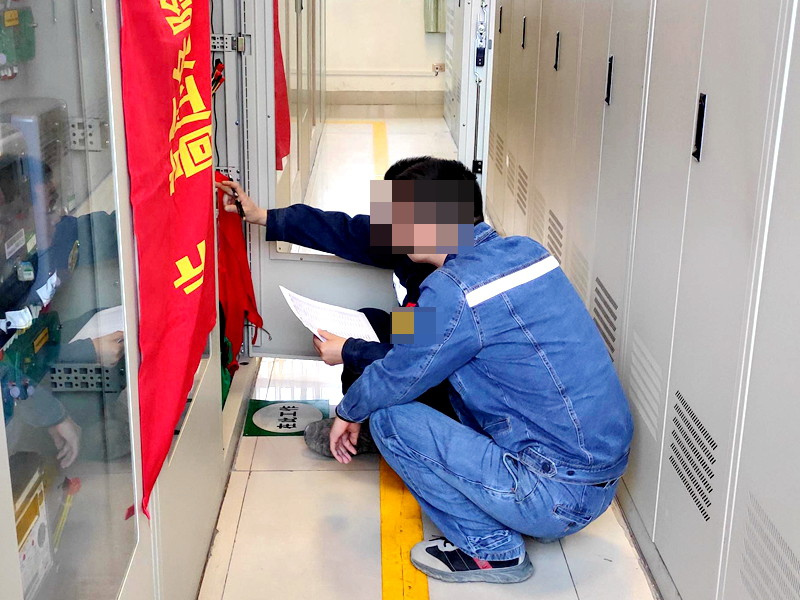downcloth: (367, 396, 631, 552)
hand: (214, 173, 268, 224), (324, 419, 365, 464), (308, 326, 347, 364)
noear: (411, 220, 448, 252)
person: (386, 160, 654, 584)
sleeve: (394, 304, 420, 347)
unhalt: (397, 163, 484, 261), (378, 153, 449, 251)
upcloth: (330, 225, 635, 459)
worksign: (244, 394, 333, 440)
